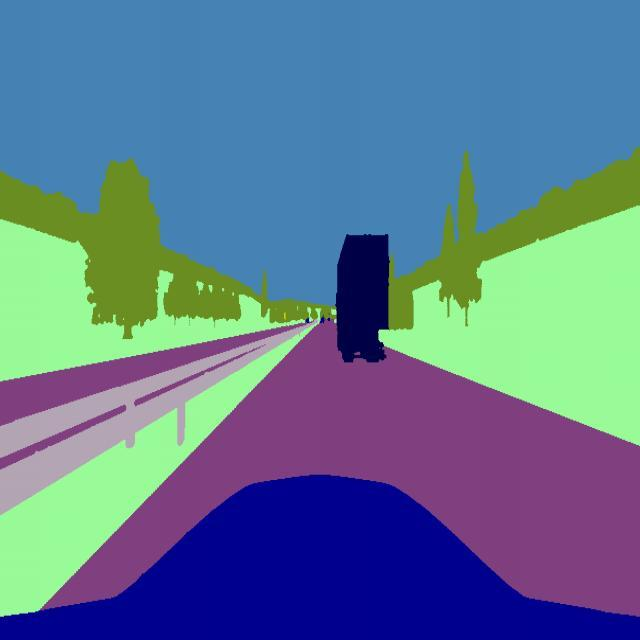safe: (336, 232, 389, 366)
